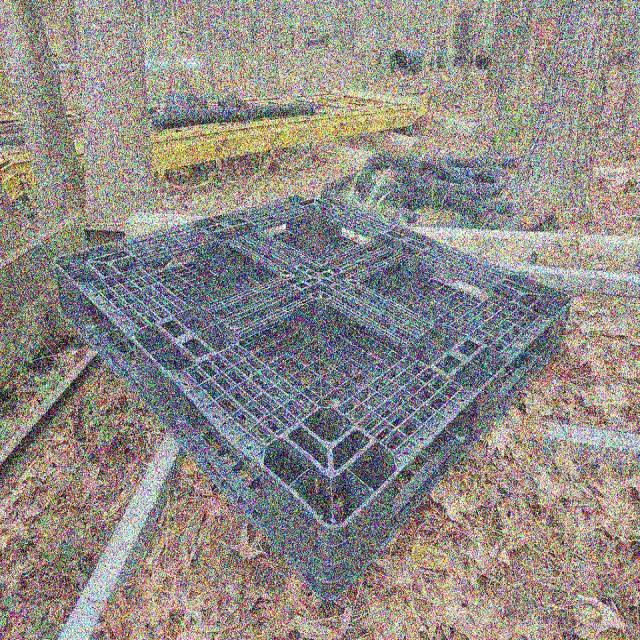non-igps: (50, 182, 579, 611)
